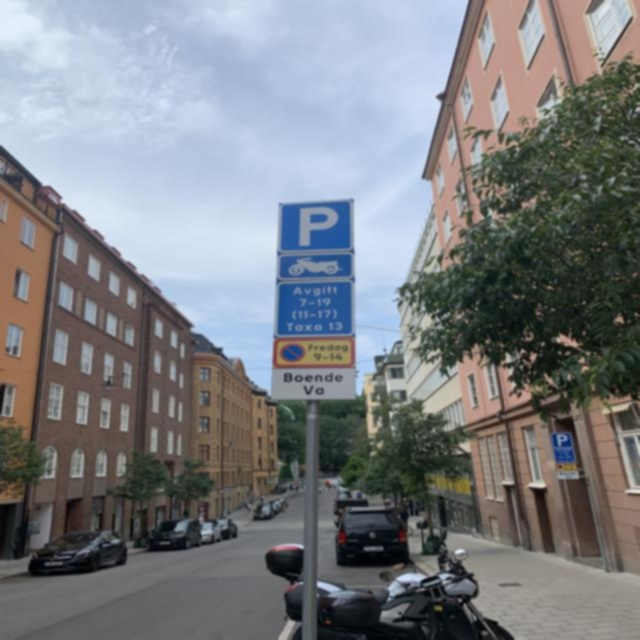P-skylt: (276, 197, 355, 253)
